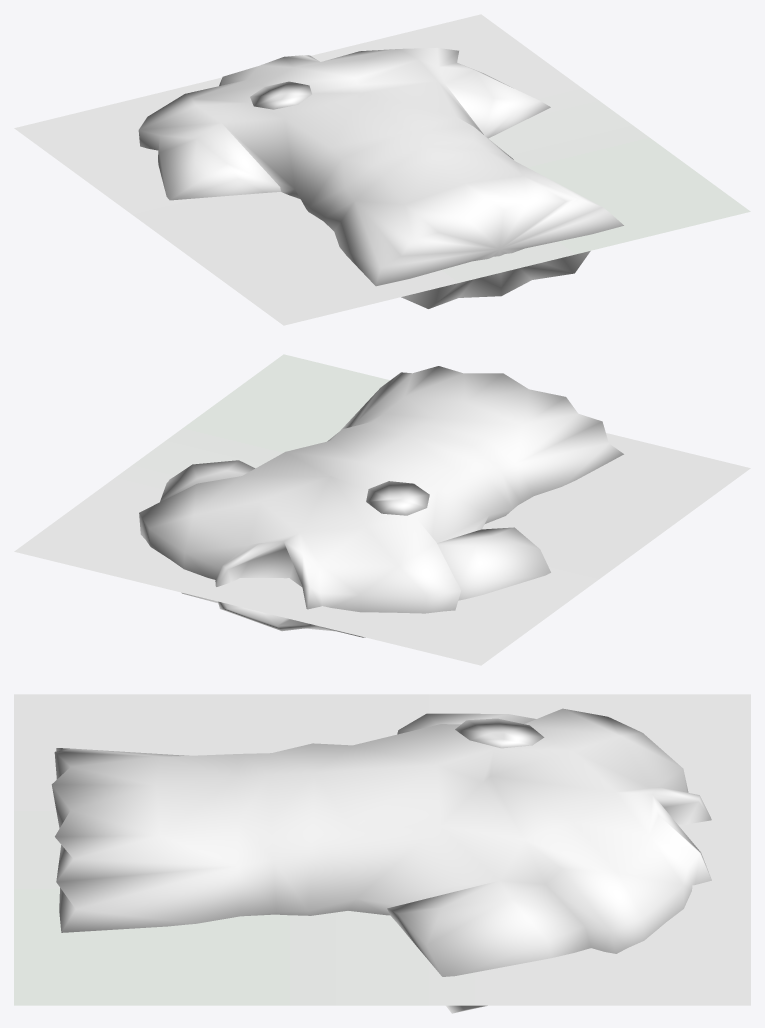
The model's file is ITAR_ARX_B.glb.
3 renders of one model, top to bottom at view 1: azimuth 30°, elevation 25°; view 2: azimuth 150°, elevation 25°; view 3: azimuth 270°, elevation 25°, orthographic. The views are drawn at different scales.
Parts seen in each view (by area): view 1: Mesh; view 2: Mesh; view 3: Mesh.
Boxes of the visible parts, left/top/right/bottom form: Mesh: left=14, top=14, right=750, bottom=325; Mesh: left=14, top=354, right=750, bottom=665; Mesh: left=14, top=694, right=750, bottom=1013.
Size of the model in its own units: 0.8271 by 0.2008 by 0.8271.
2 materials, 1 textured.
